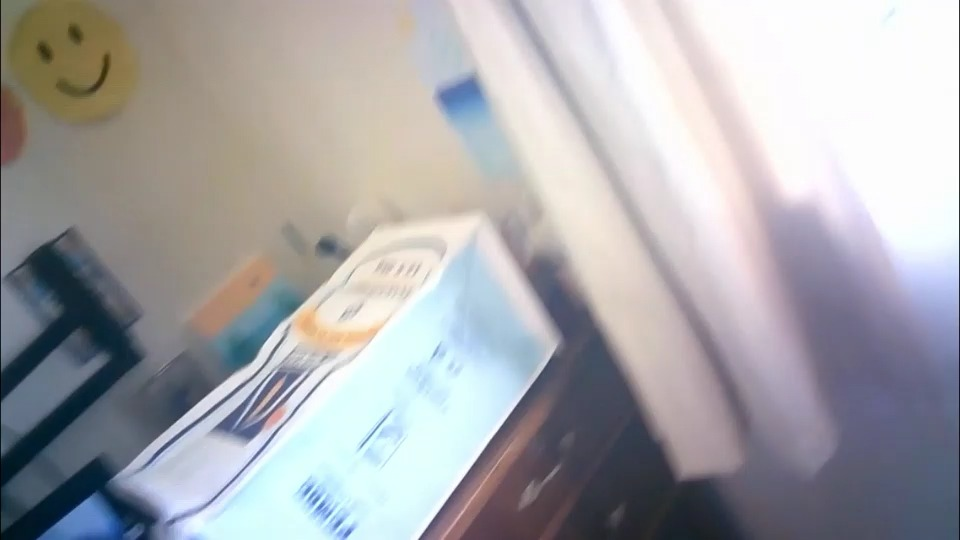wheat_flour_blue_label: (107, 217, 565, 540)
